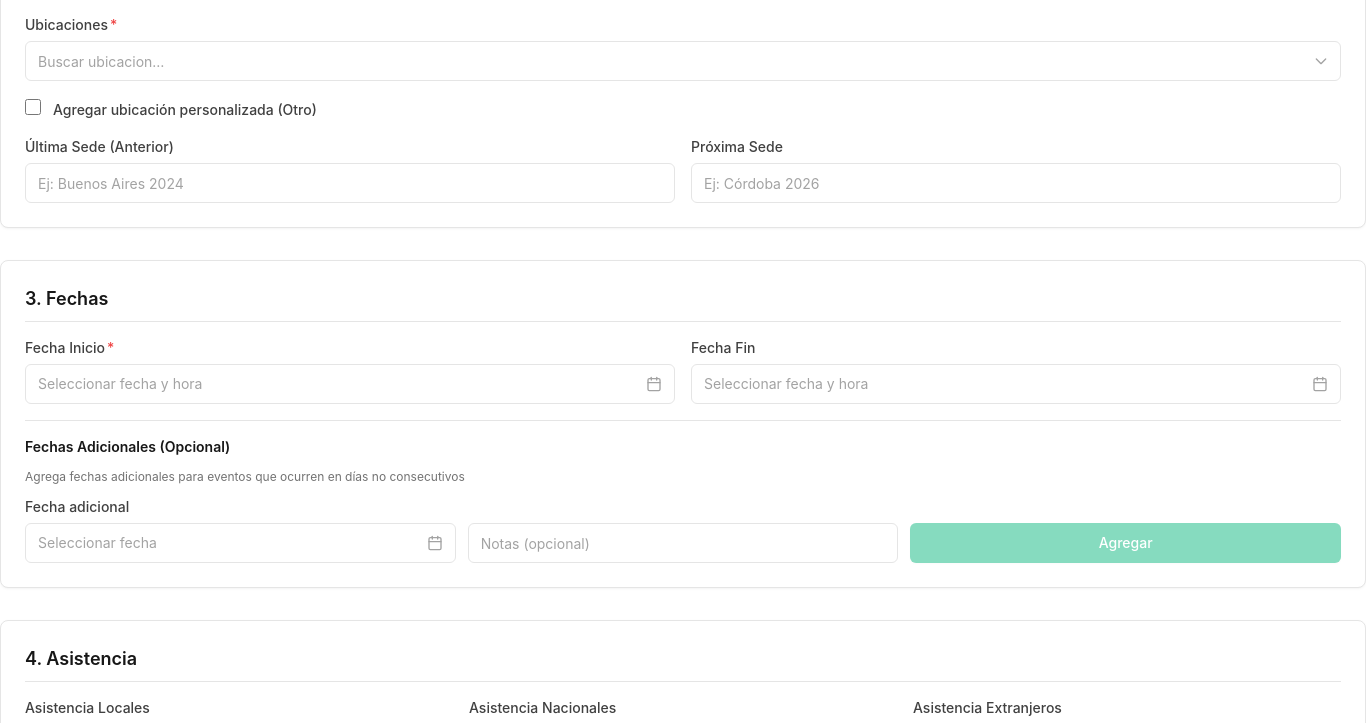
Scenario: OrganizerEventForm › section 3: dates › should open calendar when start_date picker is clicked
(page scrolled)
Click the button named "fecha inicio" at coordinates (120, 384), box [25, 364, 675, 404]
(page scrolled)
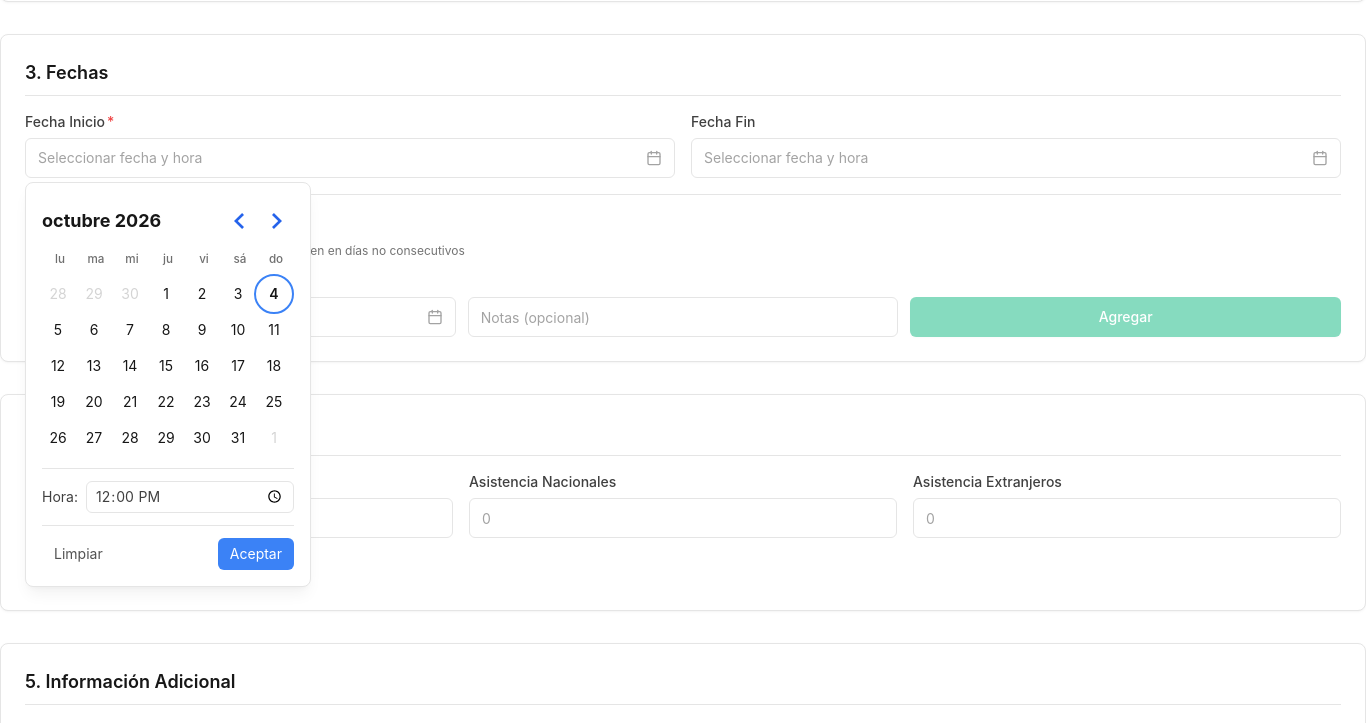
Check: the dialog named "seleccionar fecha" is shown, box [25, 182, 311, 587]
